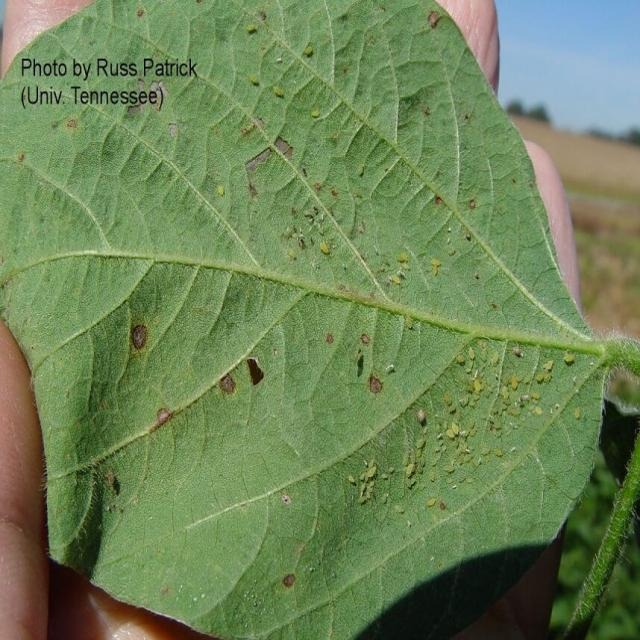Aphid-Grouped-: (351, 343, 563, 514)
